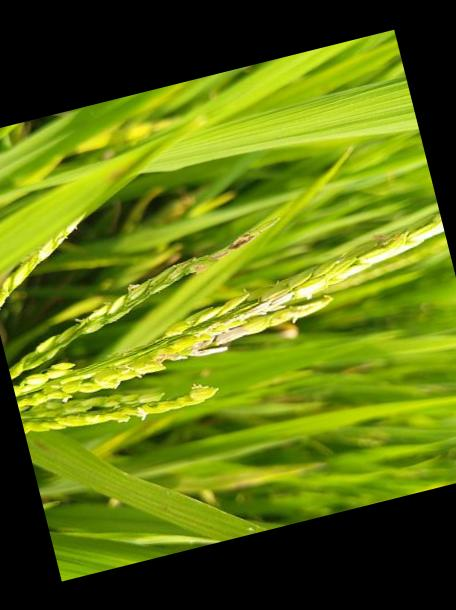Panicle Blight: (154, 212, 445, 361), (126, 216, 279, 300)
